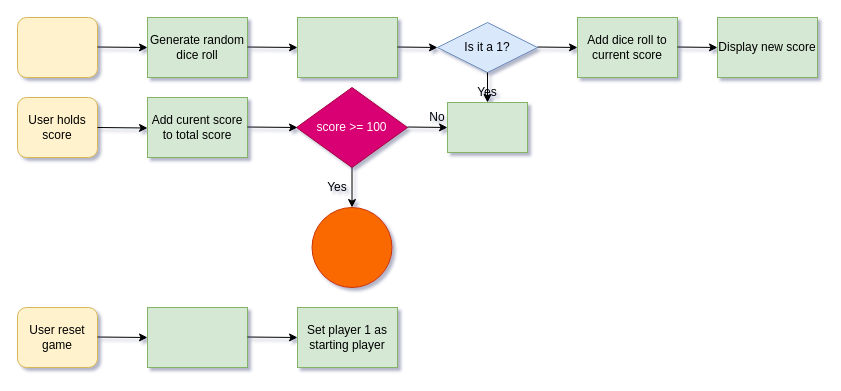
Image size: 841x391. Some labels were removed from this diagram. Each missing label, with the centre of its shape:
Curent player wins: point (351, 247)
Display dice roll: point (347, 47)
Set all scores to zero: point (197, 337)
Switch player: point (487, 127)
User roll dice: point (57, 47)
